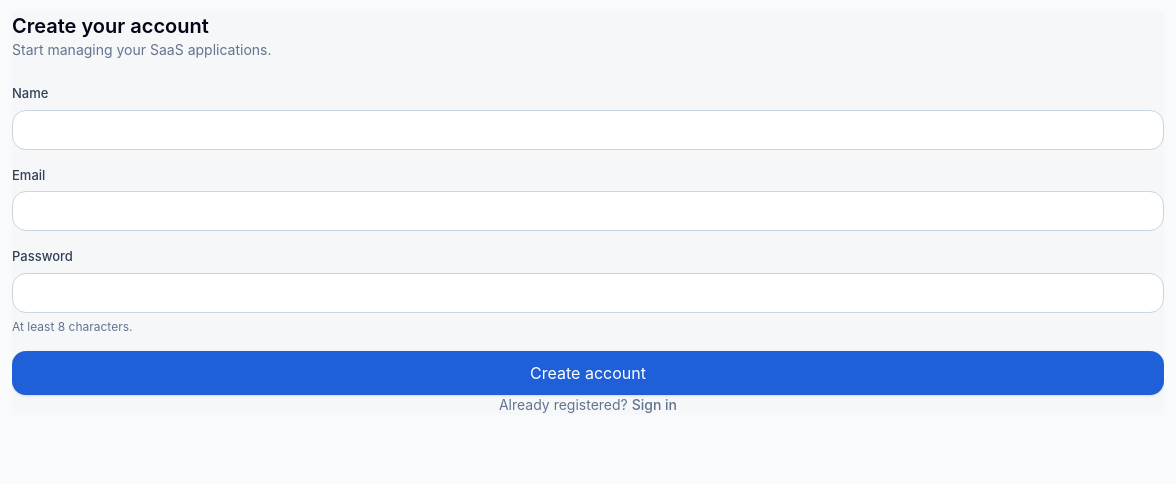
it: RegisterPage redirect behavior › does not redirect when registration fails
This screenshot has width=1176, height=484.
Type "Jane Doe" into the field labelled "Name".
click(588, 130); type("Jane Doe")  # box [12, 110, 1164, 150]
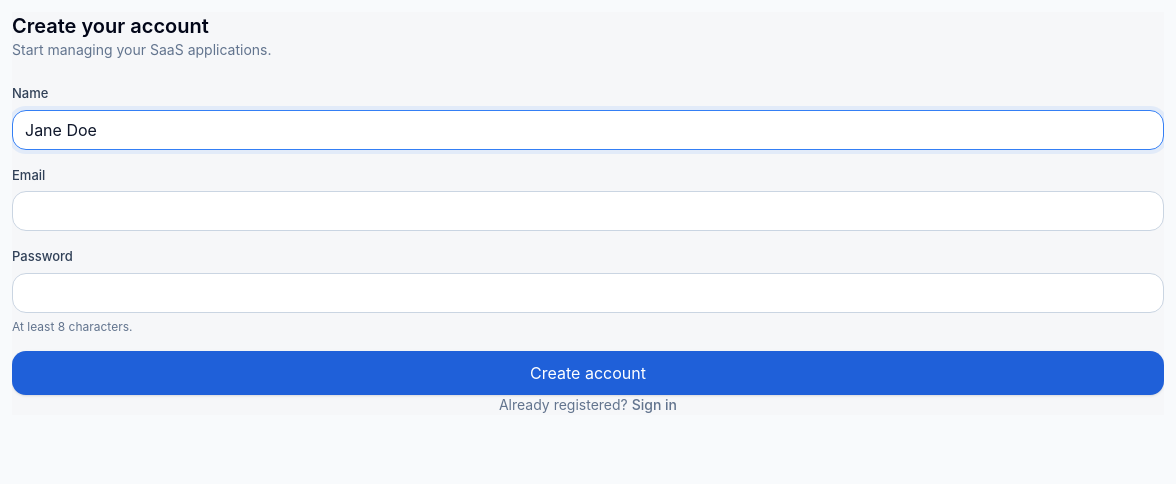
Type "  new@example.com  " into the field labelled "Email".
click(588, 211); type("  new@example.com  ")  # box [12, 191, 1164, 231]
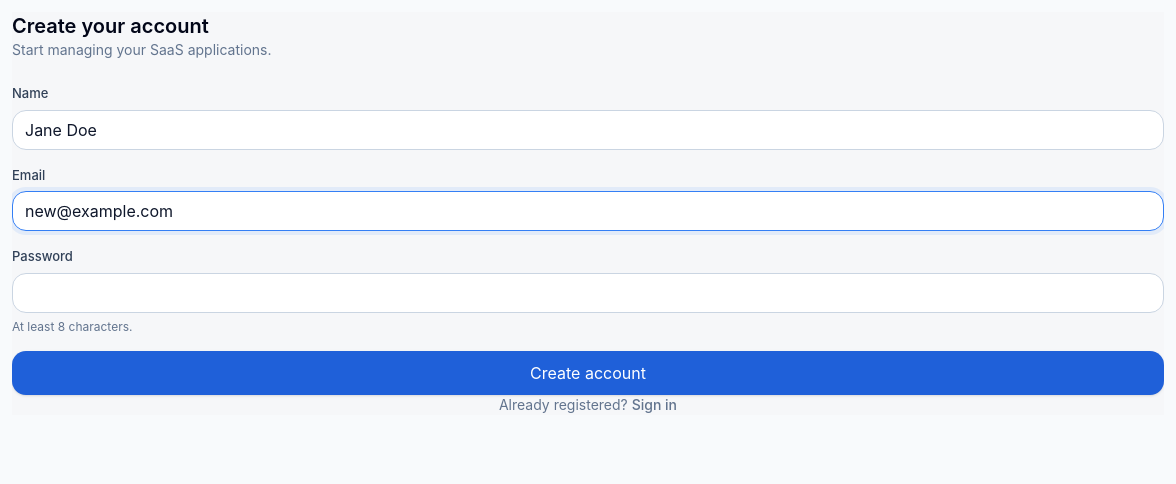
Type "Password123!" into the password field labelled "Password".
click(588, 292); type("Password123!")  # box [12, 272, 1164, 312]
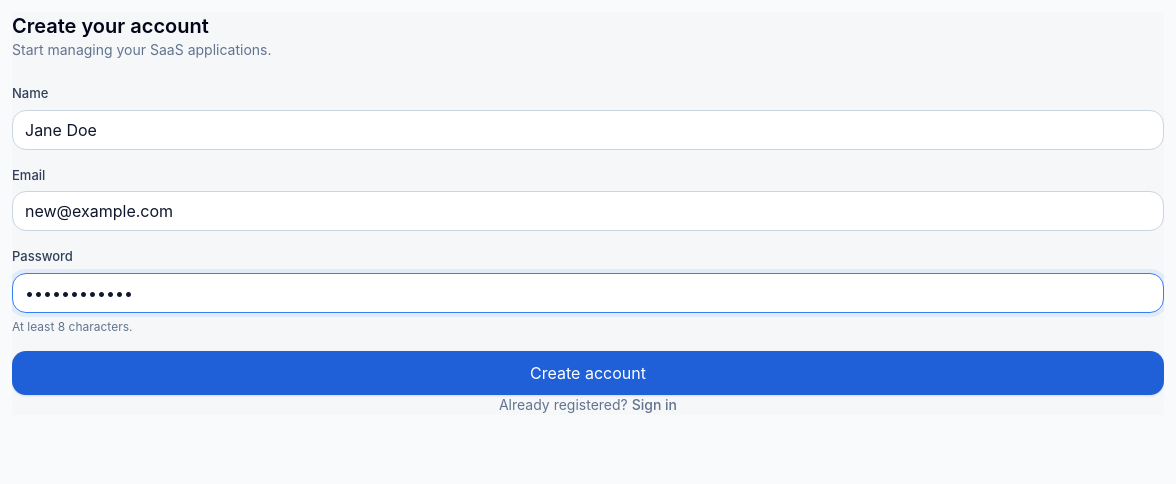
Click the button "Create account".
click(588, 372)  # box [12, 350, 1164, 394]
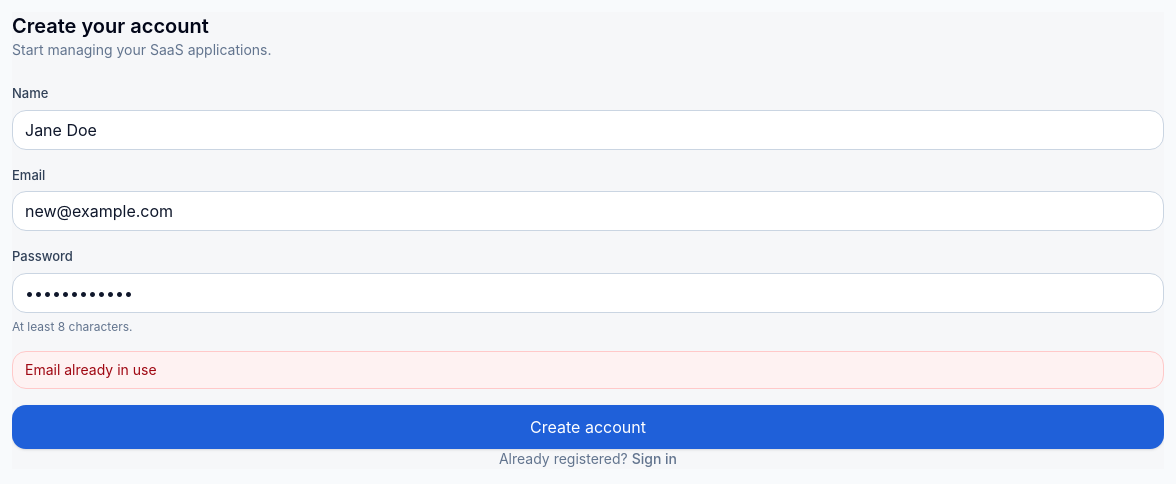
Check: the message "Email already in use" is shown, box [12, 350, 1164, 388]
